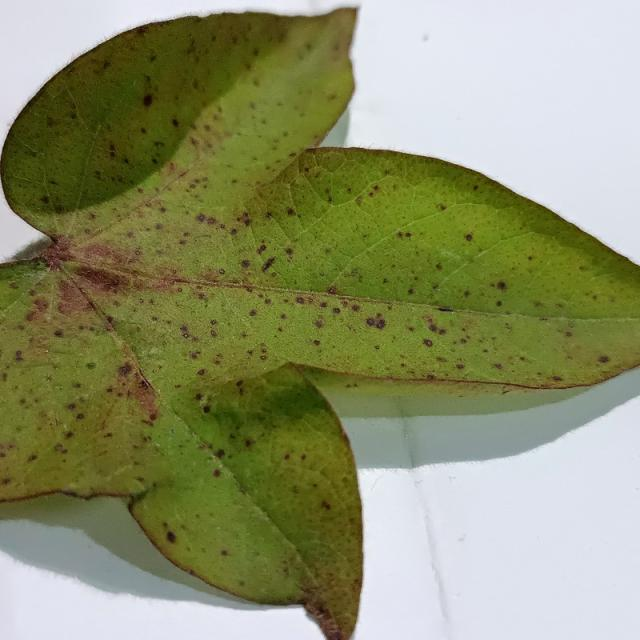Bacterial_Blight: (229, 378, 327, 431), (120, 360, 159, 424), (315, 152, 349, 174), (363, 308, 386, 333), (422, 314, 448, 335), (337, 298, 367, 316), (178, 324, 200, 342), (315, 604, 333, 623), (201, 269, 224, 282), (117, 362, 133, 377), (198, 214, 218, 226), (32, 298, 49, 312), (262, 256, 276, 272), (60, 487, 82, 497), (237, 211, 251, 226), (34, 256, 50, 267), (165, 161, 176, 176), (142, 93, 153, 107), (323, 632, 342, 640), (54, 443, 67, 453), (166, 530, 176, 543), (188, 350, 200, 360), (13, 350, 23, 362), (321, 500, 331, 511), (597, 355, 610, 363), (437, 306, 454, 312), (497, 281, 507, 291), (240, 259, 250, 269), (256, 244, 266, 254), (53, 328, 64, 337), (85, 361, 96, 370), (216, 449, 225, 459), (196, 368, 206, 377), (196, 213, 206, 222), (102, 60, 111, 70), (422, 339, 433, 347), (314, 319, 323, 328), (327, 286, 337, 294), (172, 118, 180, 128), (67, 402, 77, 410), (341, 299, 351, 307), (39, 196, 49, 204), (27, 454, 37, 462), (9, 281, 19, 289), (552, 375, 563, 382), (501, 388, 512, 395), (213, 468, 221, 477), (366, 318, 375, 326), (249, 309, 258, 317), (210, 329, 218, 338), (355, 196, 363, 205), (202, 405, 211, 413), (285, 247, 294, 255), (286, 208, 295, 216), (235, 379, 244, 387), (105, 315, 114, 323), (2, 477, 11, 485), (421, 33, 429, 42), (493, 363, 503, 370), (245, 439, 253, 447), (332, 307, 341, 314), (76, 413, 85, 420), (155, 223, 164, 230), (456, 363, 465, 370), (295, 297, 304, 304), (126, 231, 135, 238), (465, 234, 473, 241), (313, 339, 321, 346), (396, 231, 404, 238), (407, 288, 415, 295), (435, 263, 443, 270), (495, 300, 503, 307), (320, 301, 328, 308), (565, 330, 573, 337), (220, 549, 228, 556), (230, 228, 238, 235), (265, 212, 273, 219), (181, 332, 189, 339), (440, 204, 447, 211), (280, 313, 287, 320), (464, 290, 471, 297), (218, 268, 225, 275), (300, 454, 307, 461), (592, 294, 599, 301), (460, 338, 468, 344), (405, 232, 412, 238), (284, 453, 290, 460), (210, 319, 217, 325), (383, 278, 389, 284), (473, 185, 479, 191), (260, 355, 267, 360), (374, 345, 380, 350)
Cotton: (0, 8, 639, 639)
